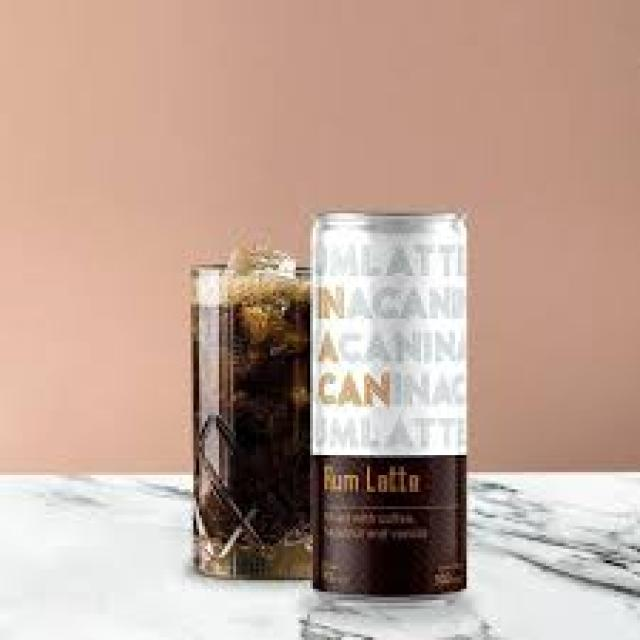Cans: (299, 196, 489, 609)
